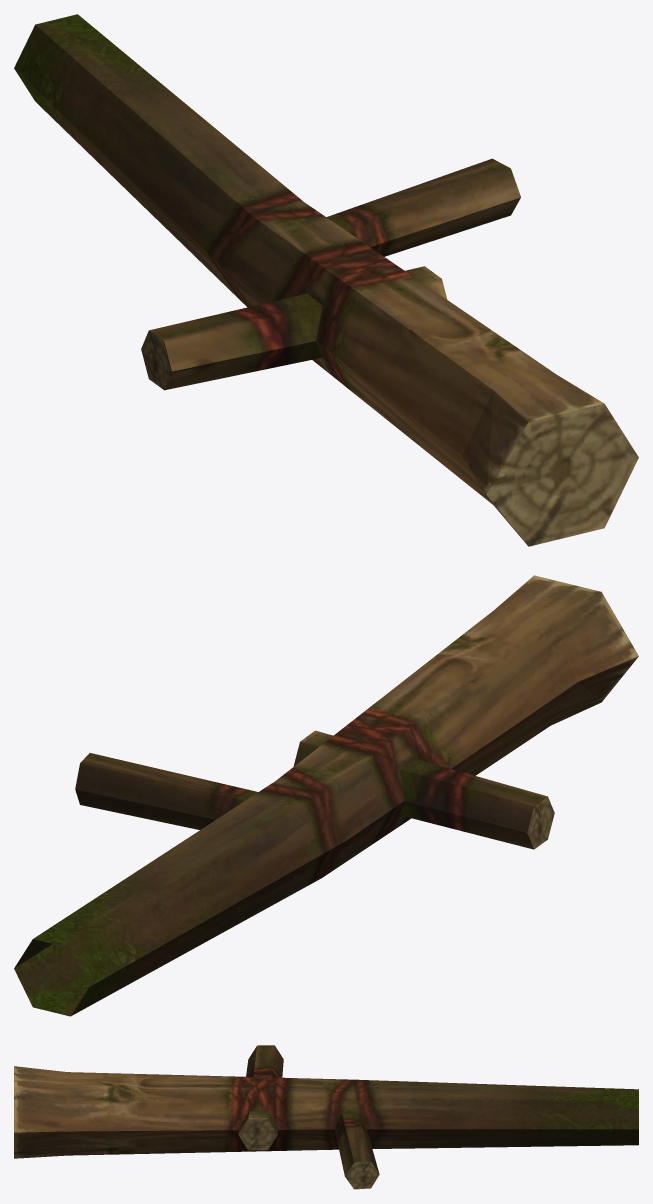
The model's file is jinglingshu_zawu06.obj.
3 views of the same model, one above another, from view 1: azimuth 30°, elevation 25°; view 2: azimuth 150°, elevation 25°; view 3: azimuth 270°, elevation 25° (orthographic). The views are drawn at different scales.
Parts seen in each view (by area): view 1: jinglingshu_zawu06; view 2: jinglingshu_zawu06; view 3: jinglingshu_zawu06.
Part boxes in pixels (left/top/right/bottom): jinglingshu_zawu06: left=14, top=14, right=638, bottom=546; jinglingshu_zawu06: left=14, top=575, right=638, bottom=1016; jinglingshu_zawu06: left=14, top=1045, right=638, bottom=1189.
Bounding box in the file's own units: 67.73 × 18.61 × 148.
1 material, 1 textured.
